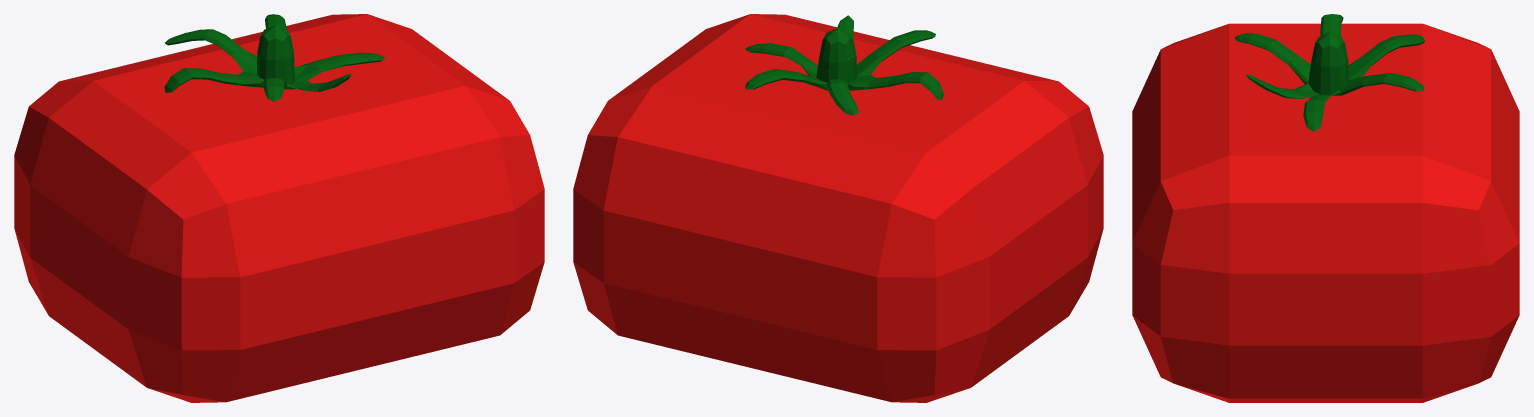
File: tomato.glb
3 views of the same model, side by side, from view 1: azimuth 30°, elevation 25°; view 2: azimuth 150°, elevation 25°; view 3: azimuth 270°, elevation 25° (orthographic).
Visible parts, largest first — view 1: body, heta; view 2: body, heta; view 3: body, heta.
Part boxes in pixels (left/top/right/bottom): body: left=14, top=14, right=544, bottom=402; heta: left=164, top=14, right=384, bottom=101; body: left=573, top=14, right=1103, bottom=402; heta: left=745, top=15, right=943, bottom=115; body: left=1132, top=23, right=1519, bottom=402; heta: left=1234, top=14, right=1424, bottom=131.
Size of the model in its own units: 0.2357 by 0.1733 by 0.2.
